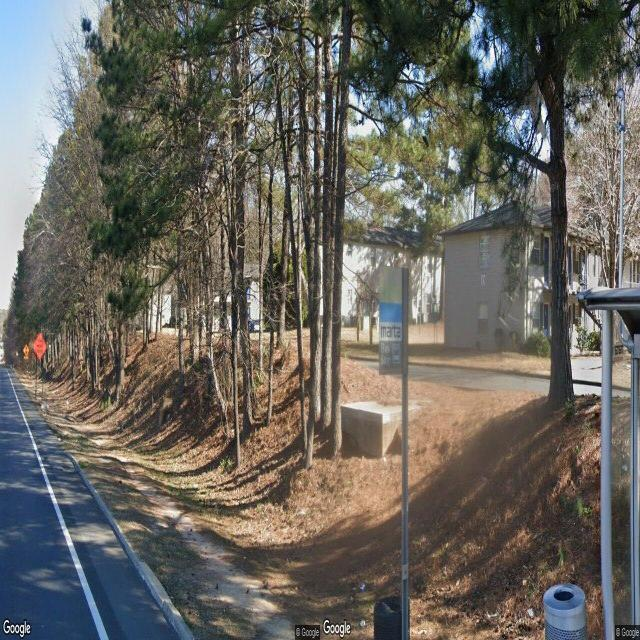shelter: (579, 284, 640, 637)
trash_can: (543, 582, 587, 640), (374, 591, 411, 639)
